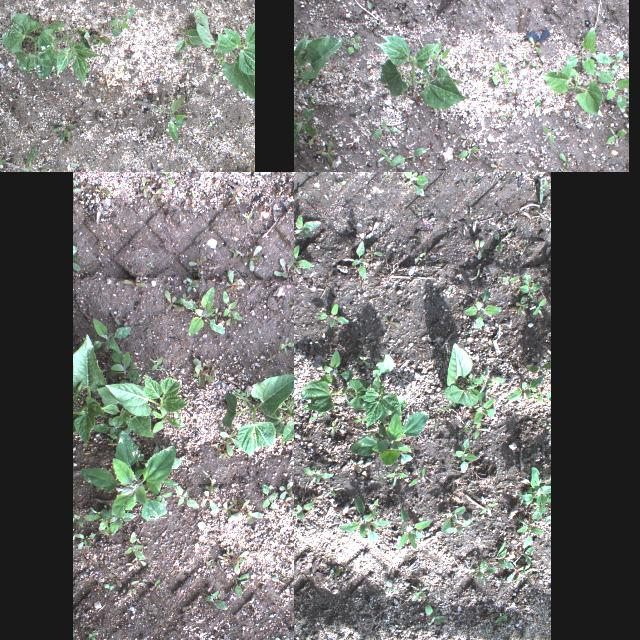crop: (374, 34, 466, 108), (224, 373, 294, 454), (193, 9, 254, 99), (99, 378, 187, 437), (435, 343, 483, 431), (37, 22, 99, 88), (73, 333, 107, 447), (357, 354, 405, 428), (2, 14, 52, 78), (540, 66, 602, 116), (294, 35, 344, 87), (301, 378, 373, 412), (264, 370, 294, 446), (177, 26, 206, 52)
weed: (77, 432, 175, 520), (349, 410, 429, 466), (149, 92, 199, 144), (563, 26, 613, 76), (339, 496, 391, 542), (182, 286, 225, 338), (463, 288, 502, 328), (396, 506, 432, 548), (518, 467, 550, 513), (596, 70, 628, 114), (92, 317, 132, 351), (319, 348, 355, 384), (106, 347, 142, 381), (515, 506, 543, 548), (100, 505, 136, 535), (11, 146, 47, 172), (506, 376, 544, 399), (94, 416, 125, 444), (108, 6, 136, 36), (153, 405, 183, 433), (294, 108, 315, 147), (314, 303, 348, 327), (478, 366, 506, 394), (230, 501, 262, 524), (518, 271, 544, 299), (492, 540, 516, 570), (457, 439, 478, 473), (474, 392, 496, 424), (388, 148, 426, 166), (440, 506, 466, 532), (470, 561, 498, 585), (192, 358, 214, 388), (506, 564, 536, 586), (173, 484, 200, 508), (294, 214, 321, 237), (403, 172, 428, 196), (303, 464, 333, 484), (456, 134, 479, 160), (384, 462, 408, 486), (294, 244, 313, 274), (352, 241, 366, 279), (372, 120, 398, 140), (124, 534, 144, 560), (224, 292, 242, 320), (425, 604, 447, 626), (444, 518, 474, 534), (512, 546, 536, 566), (220, 432, 236, 461), (494, 230, 514, 252), (273, 257, 294, 277), (233, 572, 249, 598), (263, 484, 279, 510), (52, 122, 72, 142), (406, 466, 426, 486), (478, 496, 498, 516), (606, 127, 628, 145), (202, 490, 218, 514), (526, 356, 550, 372), (74, 532, 96, 548), (74, 511, 96, 527), (320, 141, 334, 165), (250, 244, 262, 272), (164, 290, 180, 310), (530, 298, 546, 318), (538, 178, 550, 204), (203, 592, 225, 606), (278, 480, 294, 499), (412, 585, 431, 601), (122, 277, 146, 289), (382, 314, 400, 330), (474, 421, 490, 439), (159, 172, 181, 185), (294, 503, 311, 519), (542, 125, 556, 144), (612, 51, 624, 73), (226, 270, 238, 292), (235, 552, 248, 572), (506, 88, 522, 104), (156, 492, 172, 508), (92, 33, 110, 47), (30, 19, 48, 33), (484, 68, 498, 86), (277, 342, 294, 356), (130, 581, 146, 595), (138, 177, 148, 199), (348, 36, 360, 54), (516, 296, 528, 314), (366, 221, 378, 239), (364, 246, 382, 258), (475, 240, 485, 260), (323, 487, 343, 497), (518, 52, 530, 68), (73, 248, 81, 272), (358, 352, 370, 368), (522, 453, 538, 465), (93, 186, 111, 196), (502, 276, 520, 286), (328, 419, 338, 436), (378, 149, 390, 163), (186, 278, 198, 292), (205, 480, 219, 492), (108, 574, 122, 586), (530, 390, 542, 404), (530, 38, 540, 54), (189, 257, 205, 267), (110, 310, 120, 326), (204, 560, 216, 572), (414, 253, 426, 265), (311, 494, 323, 506), (386, 581, 398, 593), (495, 613, 507, 625), (560, 154, 570, 168), (152, 356, 162, 370), (203, 470, 213, 484), (354, 412, 368, 422), (509, 307, 526, 315), (123, 561, 139, 569), (308, 412, 324, 420), (494, 61, 506, 71), (149, 190, 159, 202), (154, 578, 164, 590), (470, 268, 480, 280), (372, 498, 378, 518), (351, 459, 364, 468), (332, 180, 346, 188), (227, 312, 237, 322), (509, 172, 529, 177), (85, 632, 96, 640), (245, 212, 252, 224), (223, 552, 233, 560), (70, 163, 82, 169), (364, 0, 373, 8), (289, 296, 294, 309), (156, 187, 164, 193), (105, 584, 115, 588), (547, 392, 551, 402), (76, 168, 85, 172), (302, 406, 308, 412), (213, 72, 221, 76), (546, 516, 550, 522)
